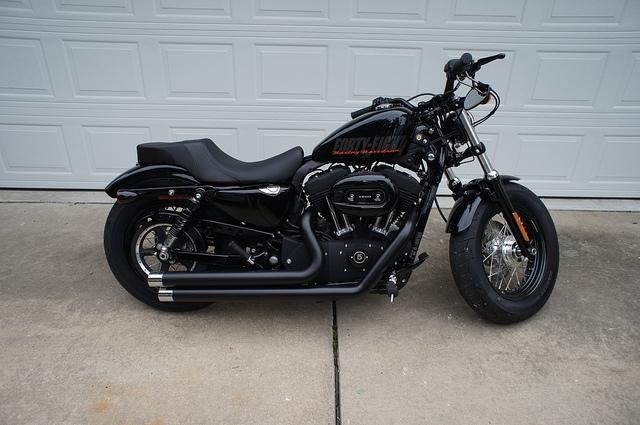motorcycle: (96, 47, 564, 325)
